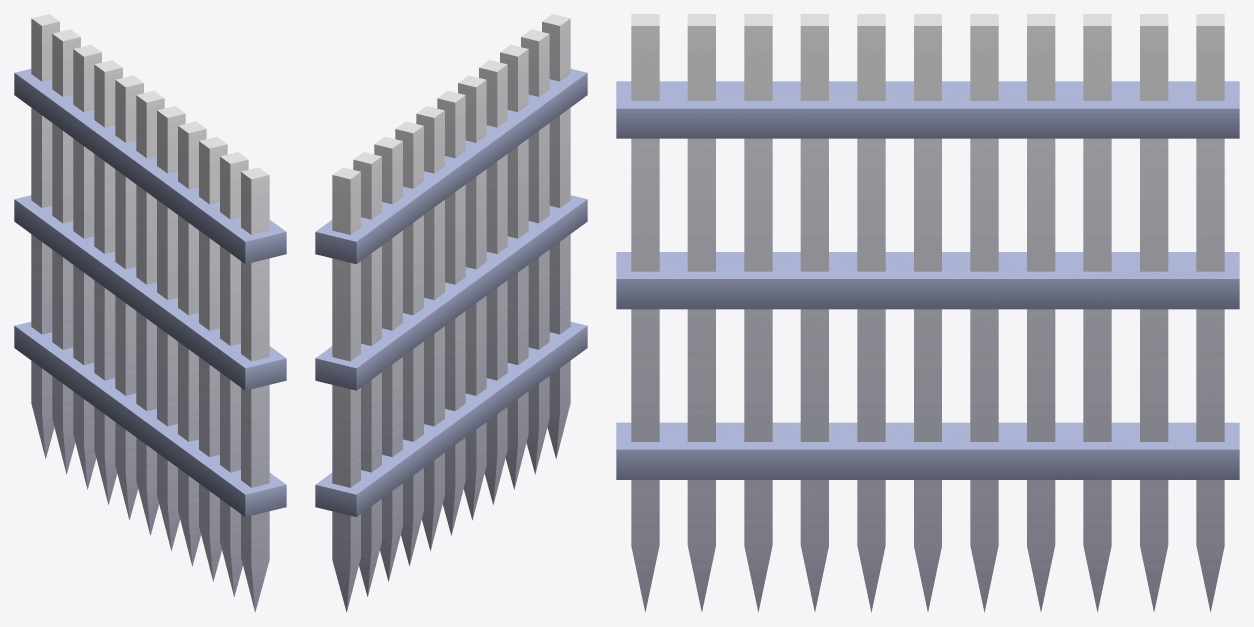
File: metal-gate.glb
The picture shows the model from 3 angles, left to right: view 1: azimuth 30°, elevation 25°; view 2: azimuth 150°, elevation 25°; view 3: azimuth 270°, elevation 25°; orthographic projection. The views are drawn at different scales.
Visible parts, largest first — view 1: metal-gate; view 2: metal-gate; view 3: metal-gate.
Part boxes in pixels (x1,y1,x2,y2): metal-gate: (14, 14, 286, 612); metal-gate: (315, 14, 587, 612); metal-gate: (616, 14, 1239, 612).
Bounding box in the file's own units: 0.0714 × 0.7301 × 0.6953.
Materials: 1 (1 with a texture image).
